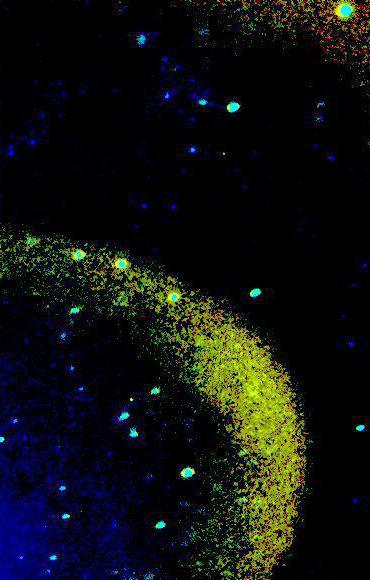star: (210, 141, 240, 171)
